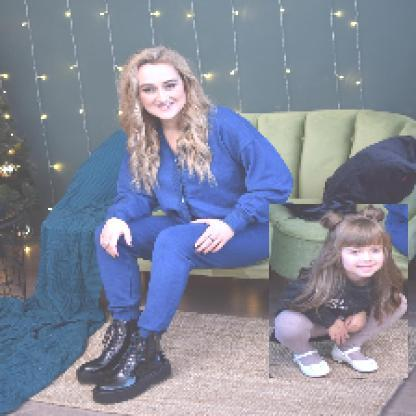child: (270, 205, 410, 380)
